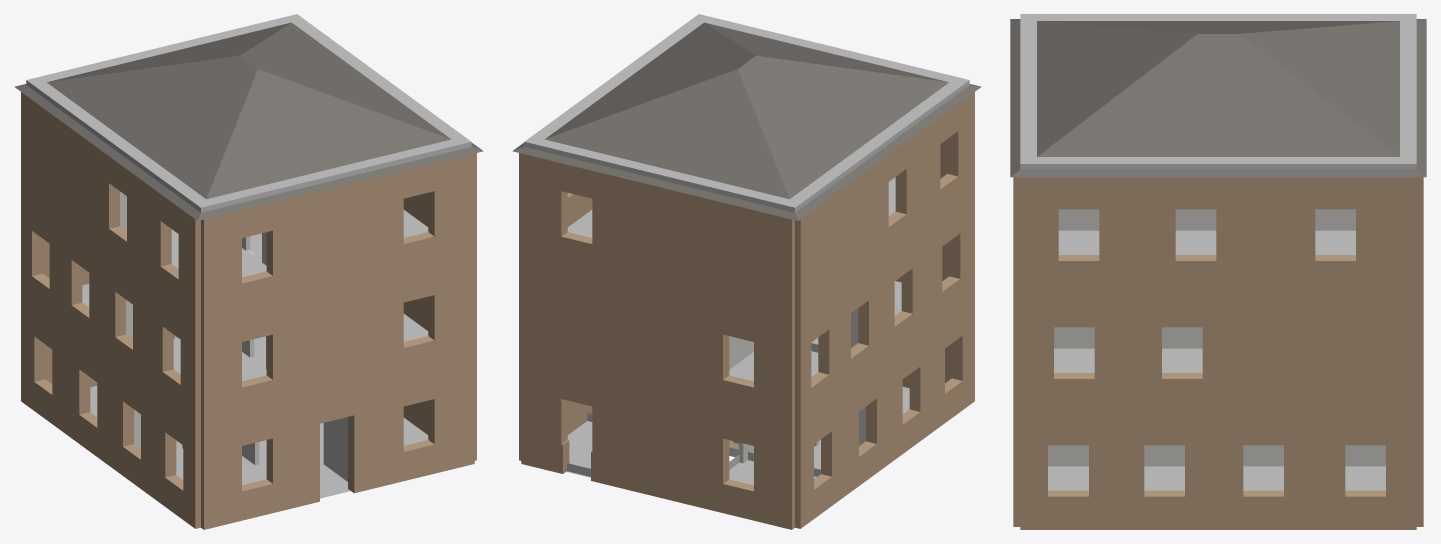
Rendered from townhouse_reference_georgian_s42.glb.
The picture shows the model from 3 angles, left to right: view 1: azimuth 30°, elevation 25°; view 2: azimuth 150°, elevation 25°; view 3: azimuth 270°, elevation 25°; orthographic projection. The views are drawn at different scales.
Parts seen in each view (by area): view 1: roof, floor_1_wall_3, floor_2_wall_3, floor_0_wall_3, floor_0_wall_2, floor_1_wall_2, floor_2_wall_2, ceiling_slab, floor_0_slab, floor_1_slab, floor_2_slab, floor_0_wall_6 (+3 smaller); view 2: roof, floor_1_wall_1, floor_2_wall_1, floor_0_wall_1, floor_2_wall_2, floor_1_wall_2, floor_0_wall_2, ceiling_slab, floor_0_slab, floor_1_slab, floor_2_wall_0, floor_0_wall_0 (+2 smaller); view 3: roof, floor_1_wall_0, floor_2_wall_0, floor_0_wall_0, ceiling_slab, floor_0_slab, floor_2_slab, floor_1_slab, floor_2_wall_6, floor_0_wall_6, floor_1_wall_6, floor_0_wall_13 (+8 smaller).
Part boxes in pixels (box(x1,y1,x2,y2)): roof: box(14, 22, 483, 220); floor_1_wall_3: box(201, 256, 474, 425); floor_2_wall_3: box(201, 153, 474, 321); floor_0_wall_3: box(201, 360, 474, 529); floor_0_wall_2: box(21, 297, 200, 528); floor_1_wall_2: box(21, 193, 200, 424); floor_2_wall_2: box(21, 92, 200, 320); ceiling_slab: box(26, 14, 471, 212); floor_0_slab: box(90, 386, 428, 498); floor_1_slab: box(82, 284, 428, 381); floor_2_slab: box(171, 210, 428, 277); floor_0_wall_6: box(323, 417, 347, 481); roof: box(512, 22, 981, 220); floor_1_wall_1: box(521, 256, 794, 425); floor_2_wall_1: box(521, 153, 794, 321); floor_0_wall_1: box(521, 360, 794, 529); floor_2_wall_2: box(795, 92, 974, 320); floor_1_wall_2: box(795, 193, 974, 424); floor_0_wall_2: box(795, 297, 974, 528); ceiling_slab: box(524, 14, 969, 212); floor_0_slab: box(566, 387, 909, 485); floor_1_slab: box(729, 281, 901, 381); floor_2_wall_0: box(519, 153, 592, 252); floor_0_wall_0: box(519, 356, 592, 460); roof: box(1010, 19, 1426, 177); floor_1_wall_0: box(1020, 294, 1416, 411); floor_2_wall_0: box(1020, 177, 1416, 293); floor_0_wall_0: box(1020, 412, 1416, 529); ceiling_slab: box(1020, 14, 1416, 169); floor_0_slab: box(1048, 466, 1385, 490); floor_2_slab: box(1058, 230, 1355, 254); floor_1_slab: box(1054, 348, 1202, 372); floor_2_wall_6: box(1058, 209, 1216, 230); floor_0_wall_6: box(1048, 445, 1184, 466); floor_1_wall_6: box(1054, 327, 1202, 348); floor_0_wall_13: box(1243, 445, 1385, 466).
Size of the model in its own units: 9.22 by 11.34 by 10.24.
